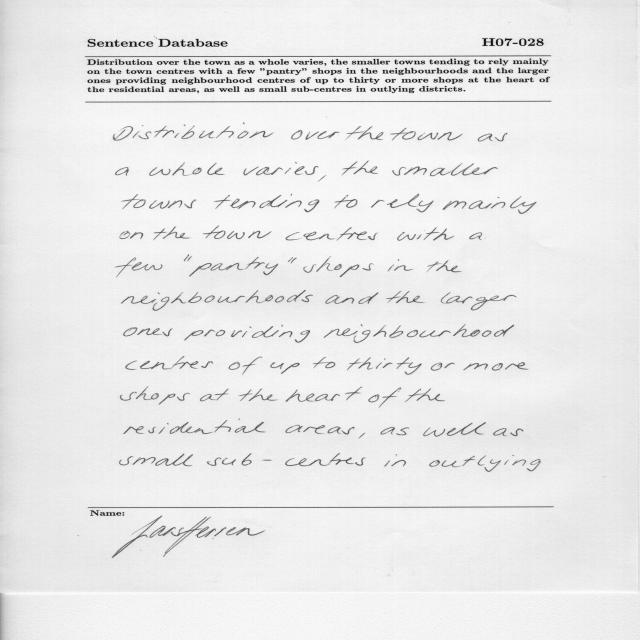word: (121, 290, 313, 311), (324, 324, 514, 343), (114, 123, 274, 141), (184, 325, 310, 343), (124, 419, 266, 434), (207, 454, 366, 467), (429, 455, 541, 472), (214, 194, 319, 212), (189, 257, 278, 276), (443, 196, 536, 214), (303, 256, 373, 277), (392, 163, 498, 176), (441, 293, 517, 311), (347, 357, 422, 375), (120, 387, 190, 405), (126, 356, 213, 370), (286, 228, 377, 241), (371, 194, 433, 213), (286, 387, 362, 402), (122, 194, 196, 209), (149, 162, 225, 176), (244, 162, 319, 176), (423, 422, 486, 437), (116, 258, 162, 278), (203, 226, 272, 239), (390, 128, 463, 140), (120, 454, 193, 466), (398, 227, 455, 241), (286, 425, 355, 435), (369, 388, 402, 408), (326, 292, 379, 304), (229, 356, 262, 375), (464, 362, 529, 371), (405, 388, 445, 402), (346, 126, 383, 140), (342, 161, 378, 175), (153, 227, 191, 240), (291, 130, 340, 140), (239, 389, 278, 401), (386, 291, 424, 303), (124, 328, 173, 337), (427, 261, 461, 272), (270, 362, 300, 374), (200, 389, 229, 401), (387, 260, 413, 272), (335, 195, 358, 208), (385, 454, 406, 467), (493, 428, 524, 436), (314, 357, 336, 368), (478, 133, 507, 141), (380, 427, 409, 435), (431, 363, 455, 371), (120, 231, 143, 239), (116, 167, 129, 176), (469, 232, 482, 240), (288, 257, 297, 264), (318, 175, 326, 182), (184, 255, 192, 262), (359, 433, 365, 438)
